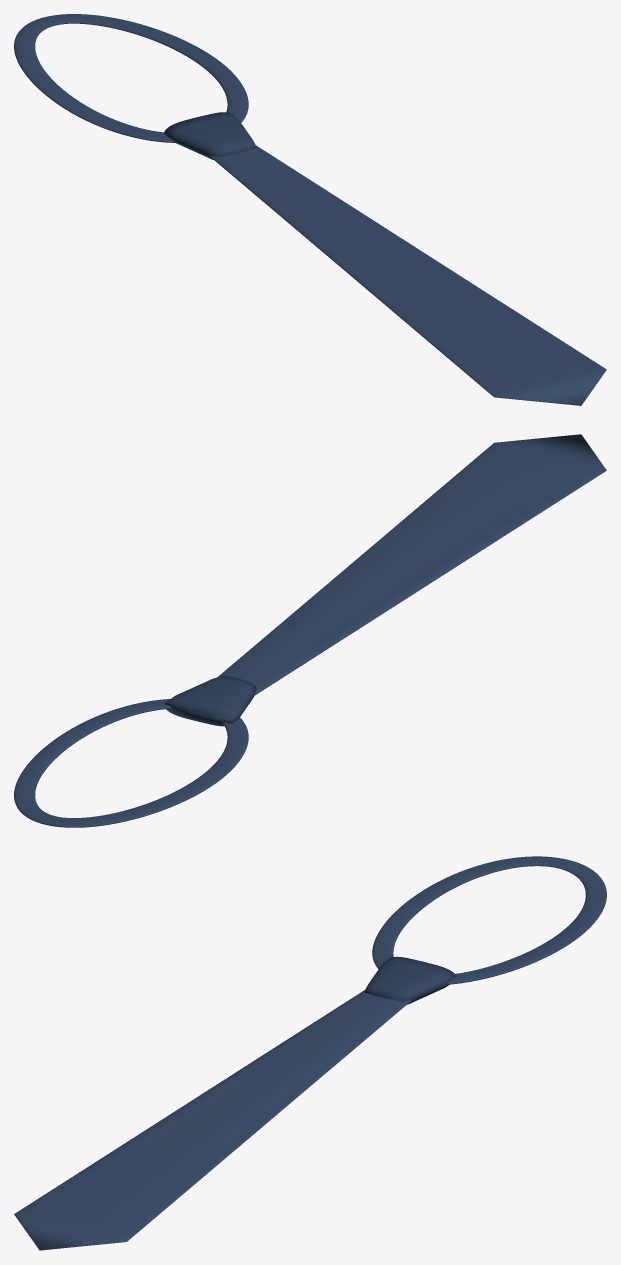
3 views of the same model, one above another, from view 1: azimuth 30°, elevation 25°; view 2: azimuth 150°, elevation 25°; view 3: azimuth 330°, elevation 25° (orthographic).
Parts seen in each view (by area): view 1: Original long pointed front blade, Original flattened cloth neck loop, Original tapered gathered necktie knot; view 2: Original long pointed front blade, Original flattened cloth neck loop, Original tapered gathered necktie knot; view 3: Original long pointed front blade, Original flattened cloth neck loop, Original tapered gathered necktie knot.
Part boxes in pixels (x1,y1,x2,y2): Original long pointed front blade: (209, 145, 606, 405); Original flattened cloth neck loop: (14, 14, 248, 142); Original tapered gathered necktie knot: (164, 112, 256, 159); Original long pointed front blade: (218, 434, 606, 695); Original flattened cloth neck loop: (14, 699, 248, 827); Original tapered gathered necktie knot: (164, 676, 256, 726); Original long pointed front blade: (14, 990, 411, 1250); Original flattened cloth neck loop: (372, 856, 606, 984); Original tapered gathered necktie knot: (364, 956, 456, 1004).
Size of the model in its own units: 10.8 by 1.16 by 60.4.
